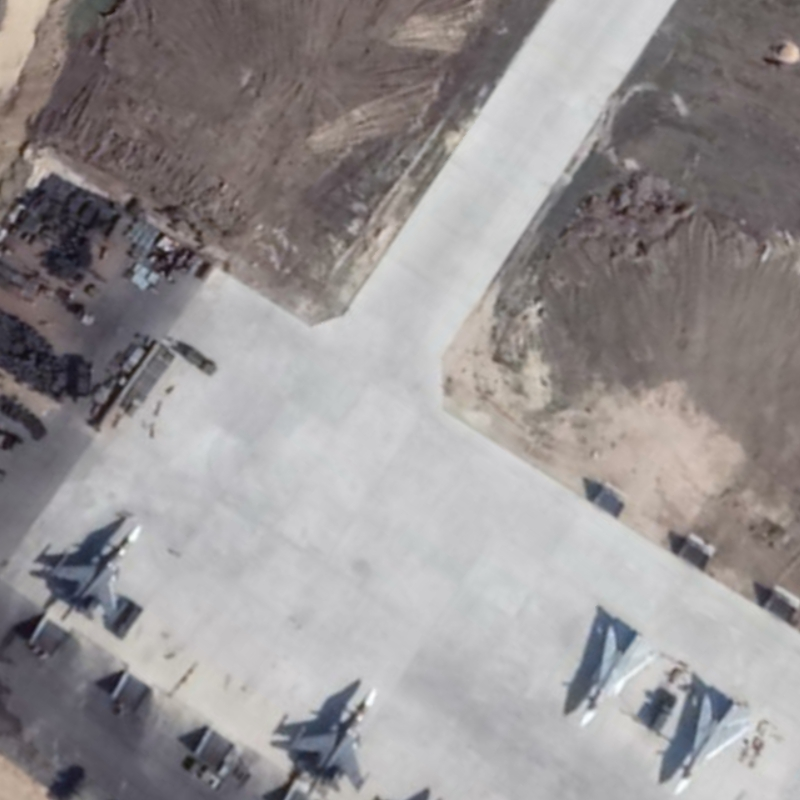A19: (40, 518, 147, 631), (284, 682, 382, 797)
A20: (666, 682, 754, 797), (572, 615, 658, 732)
